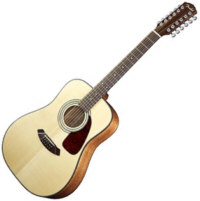acoustic guitar: (1, 1, 197, 198)
